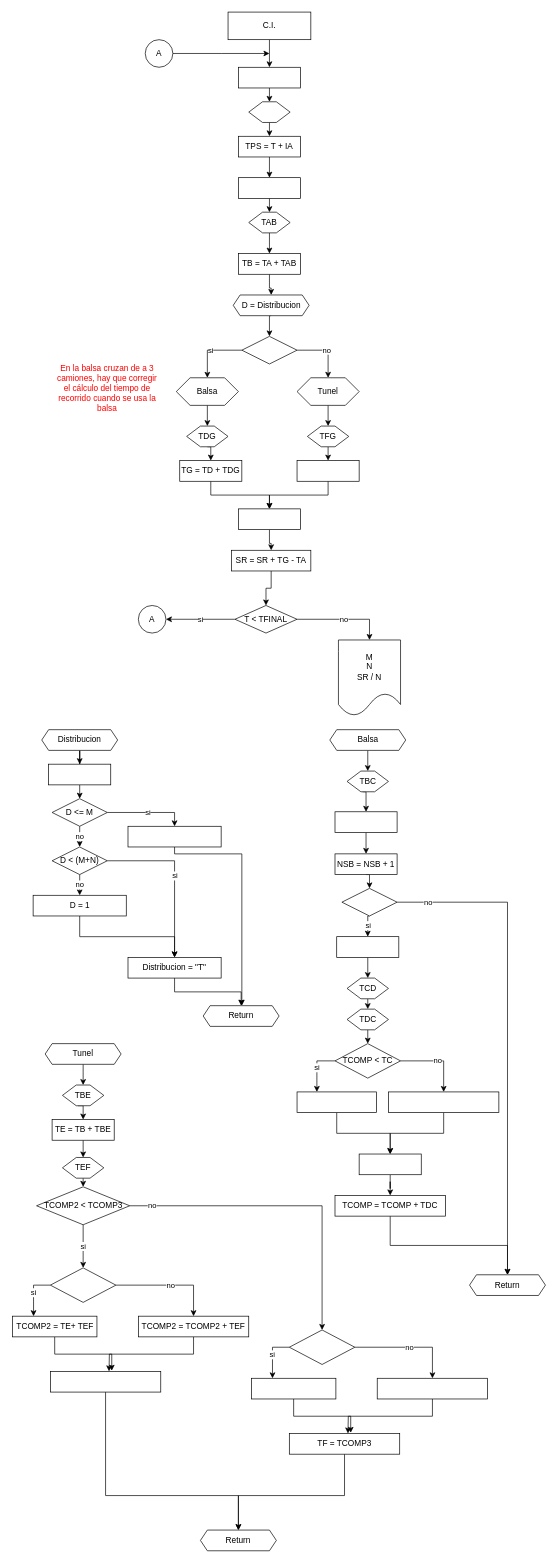
Some shapes in this 558 by 1563 pixel diagram are drawn without their labels. Each missing label, with the box of its shape:
D = "B": (241, 336, 297, 364)
D = D + 1: (48, 763, 111, 785)
Distribucion = "B": (127, 826, 221, 847)
IA: (248, 101, 290, 122)
N = N + 1: (238, 508, 300, 530)
NSB = 0: (336, 936, 399, 957)
NSB >= 3: (341, 888, 397, 916)
T = TPS: (238, 67, 300, 88)
TA = T: (238, 177, 300, 198)
TC = TB + TBC: (334, 811, 397, 832)
TCOMP = TC + TCD: (296, 1091, 376, 1113)
TCOMP = TCOMP + TCD: (388, 1091, 499, 1113)
TCOMP2 < TE: (50, 1267, 116, 1302)
TCOMP3 < TE: (289, 1329, 355, 1364)
TCOMP3 = TCOMP3 + TEF: (377, 1378, 488, 1399)
TCOMP3 = TE+ TEF: (251, 1378, 336, 1399)
TD = TCOMP: (358, 1153, 421, 1175)
TF = TCOMP2: (50, 1371, 161, 1392)
TG = TF + TFG: (296, 460, 359, 481)
